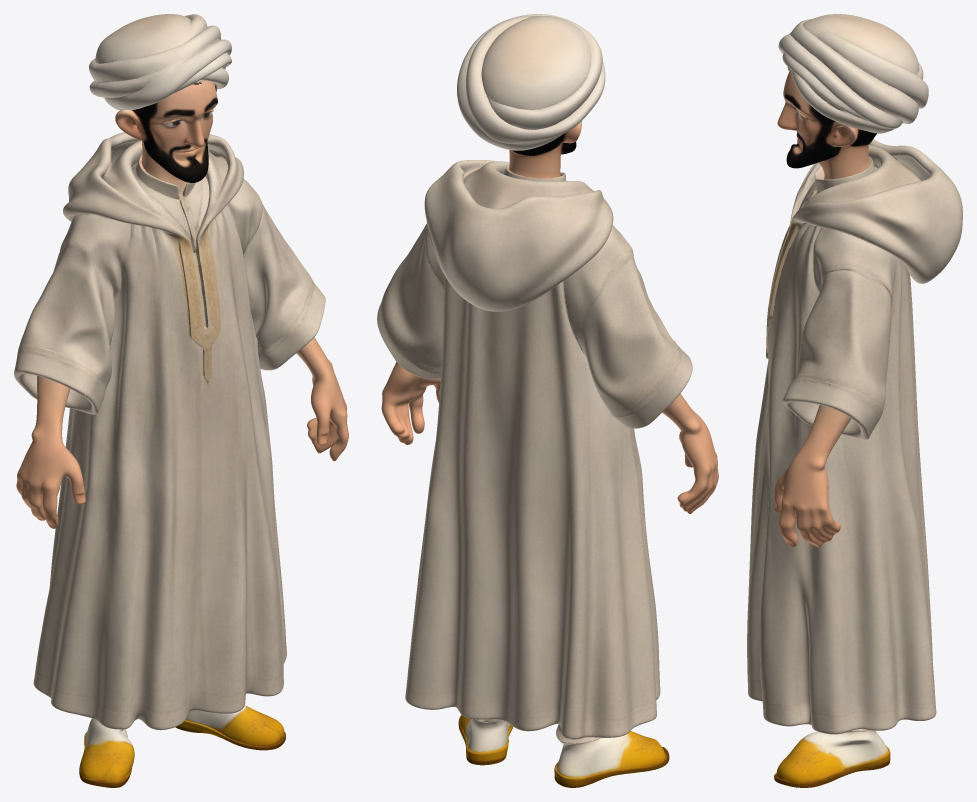
The model's file is lamrani__base_basic_pbr.glb.
The picture shows the model from 3 angles, left to right: view 1: azimuth 30°, elevation 25°; view 2: azimuth 150°, elevation 25°; view 3: azimuth 270°, elevation 25°; orthographic projection.
Parts seen in each view (by area): view 1: model; view 2: model; view 3: model.
Part boxes in pixels (bbox=[...]): model: bbox=[14, 14, 348, 787]; model: bbox=[377, 14, 718, 787]; model: bbox=[747, 14, 962, 787].
Bounding box in the file's own units: 0.8865 × 1.9 × 0.5143.
1 material, 1 textured.
